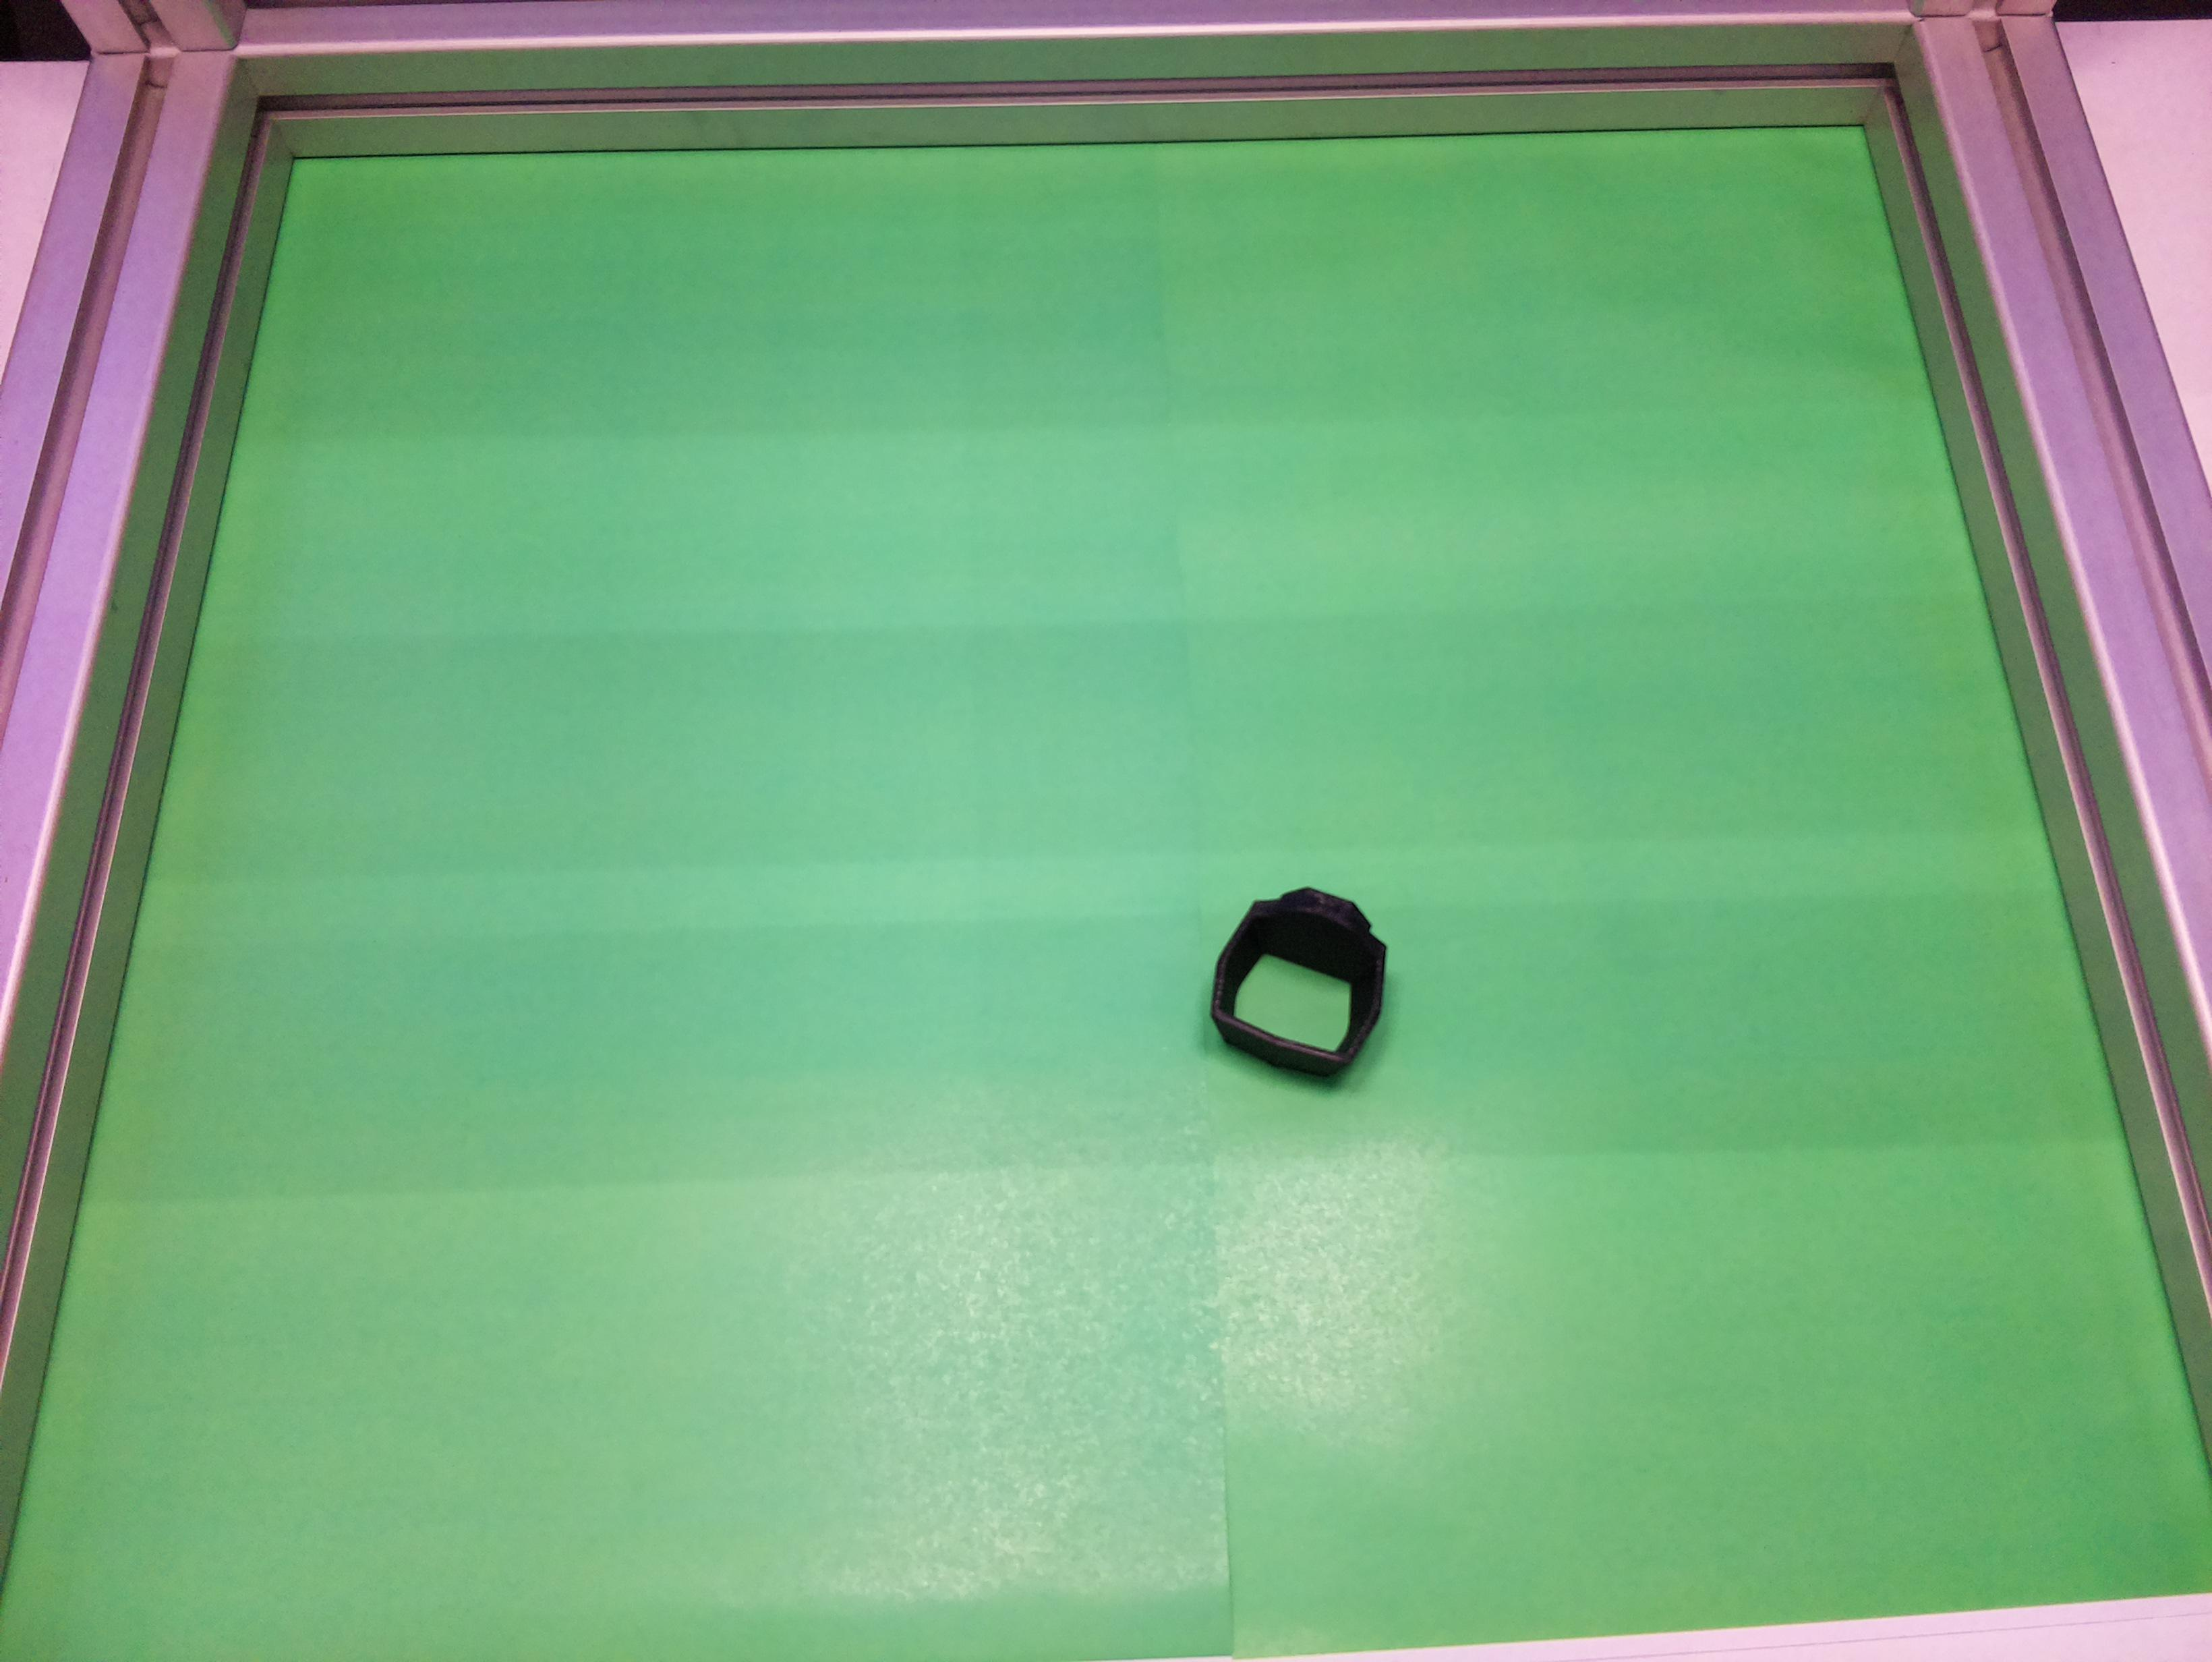scissor_holder: (1194, 869, 1409, 1093)
